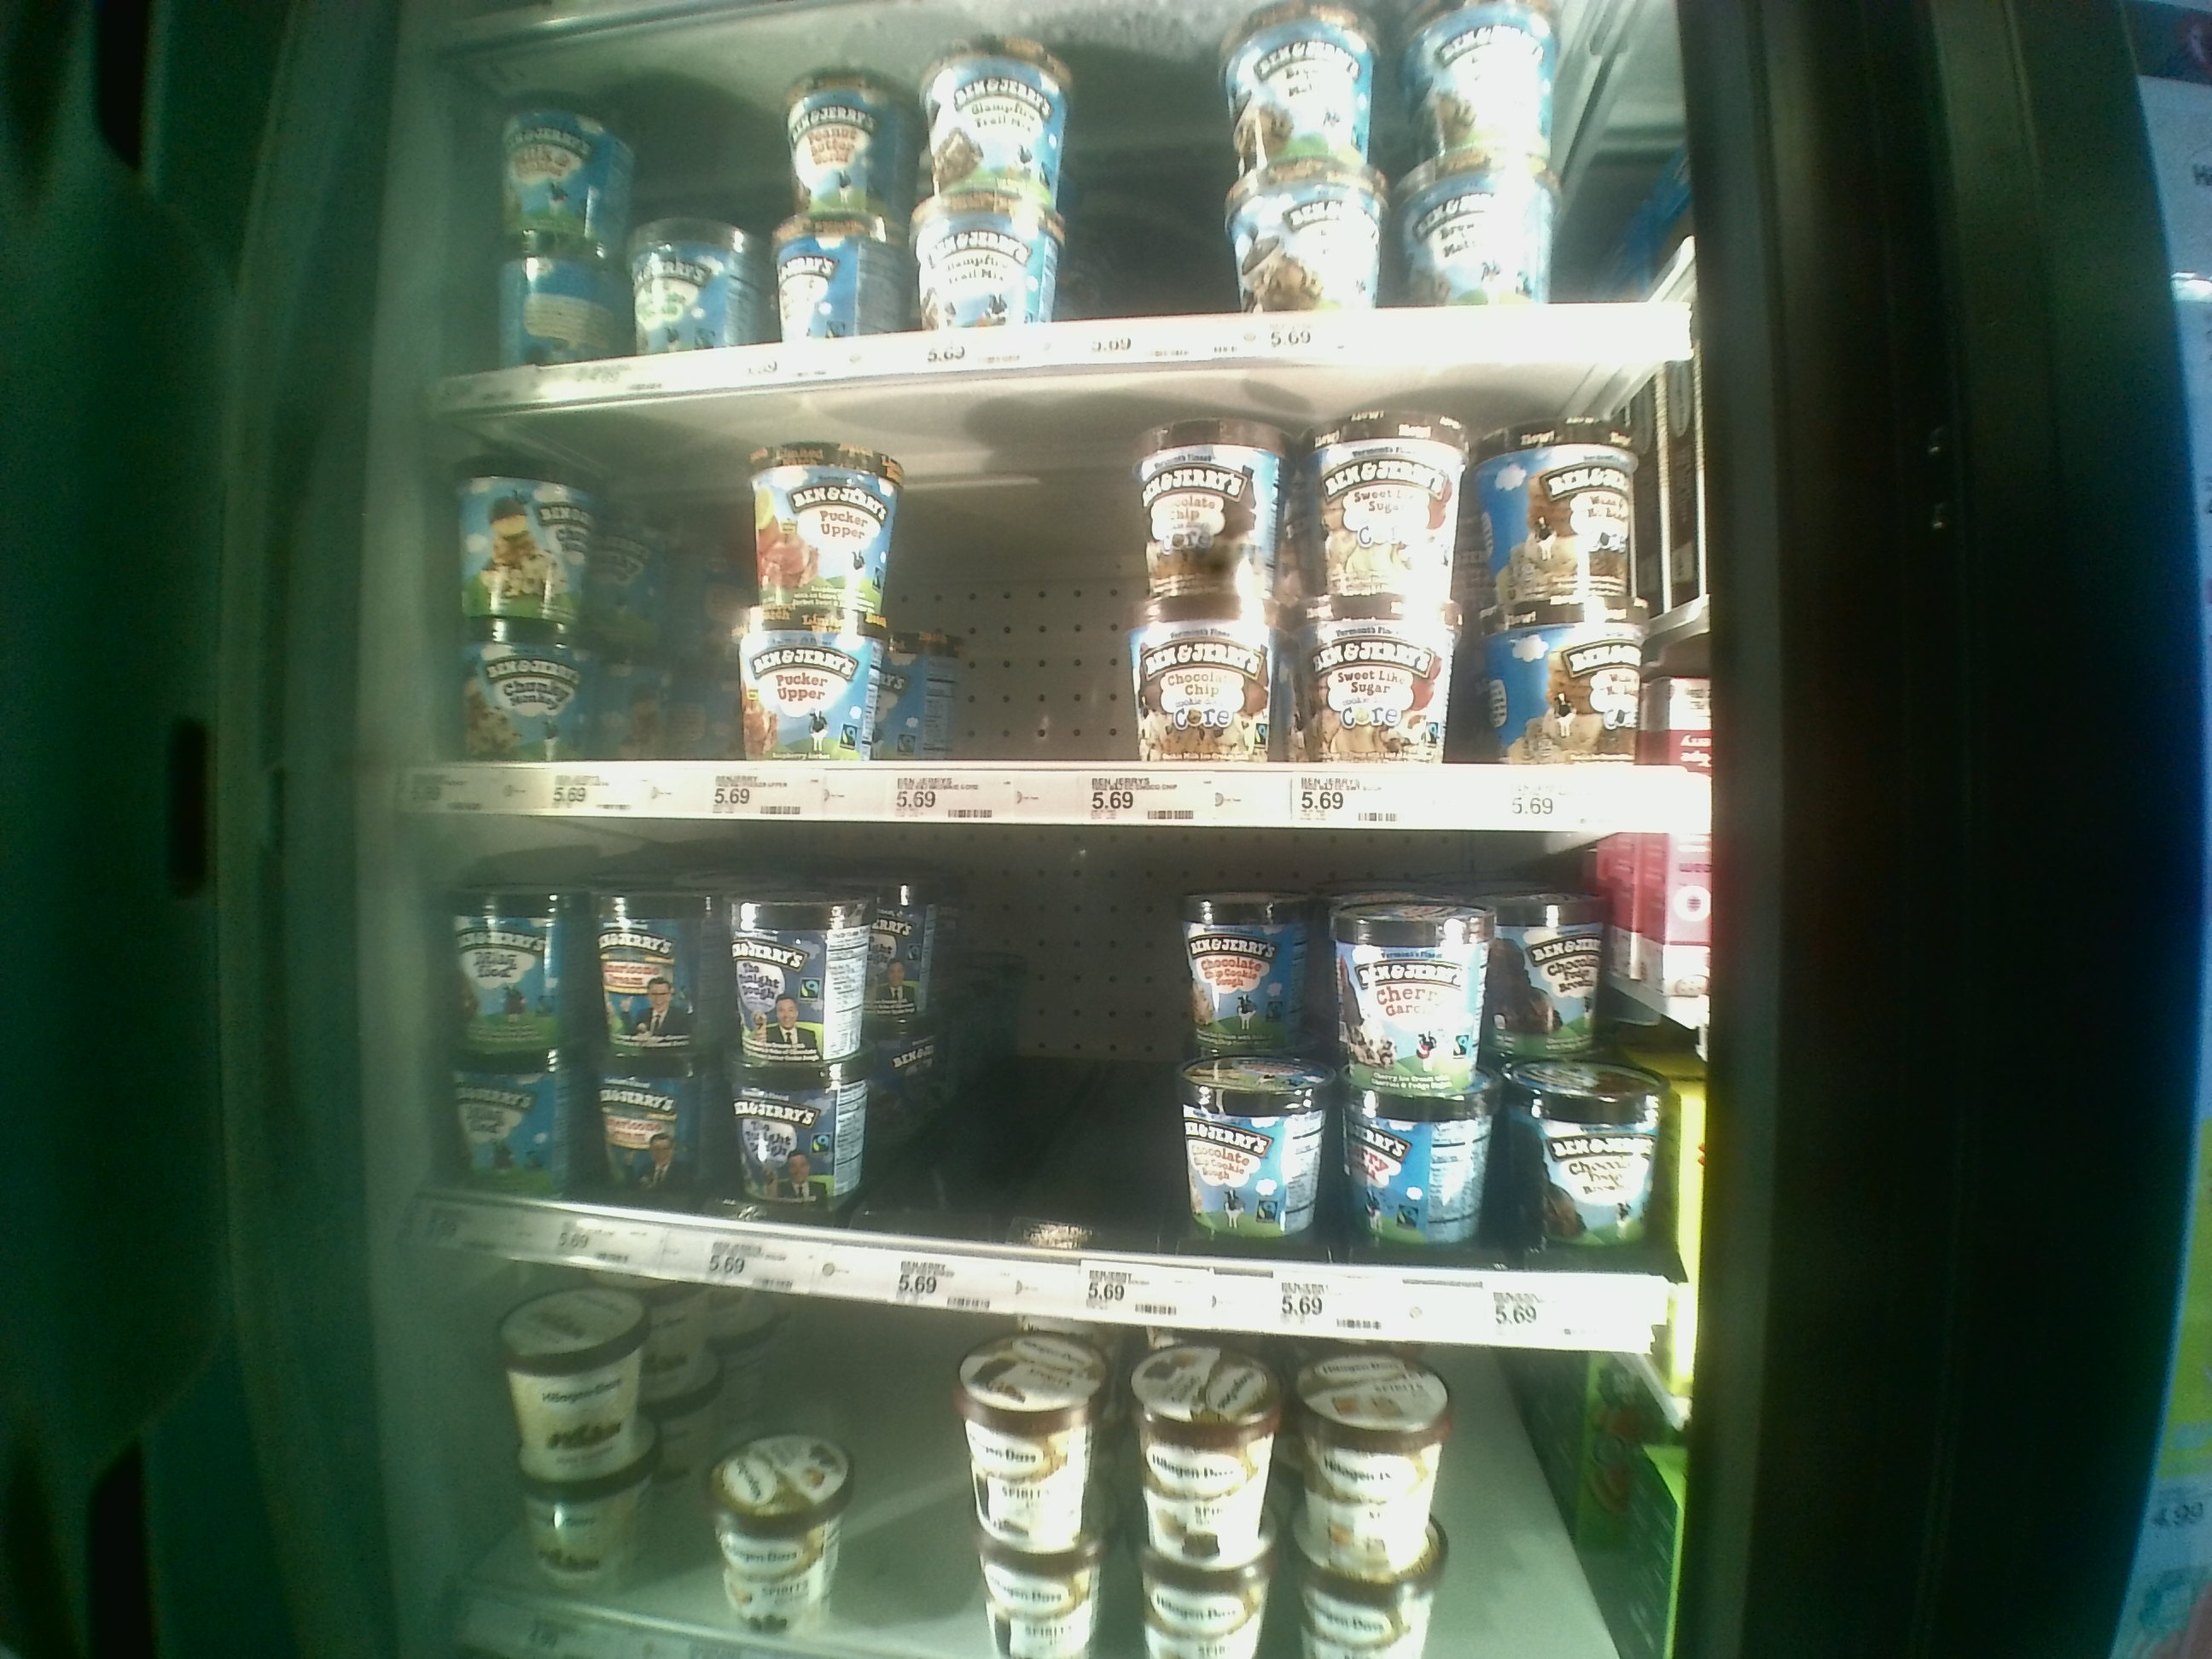shelf: (421, 817, 1703, 1338), (439, 368, 1702, 828)
